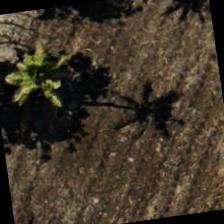Kelapa_Sawit: (0, 24, 90, 127)
